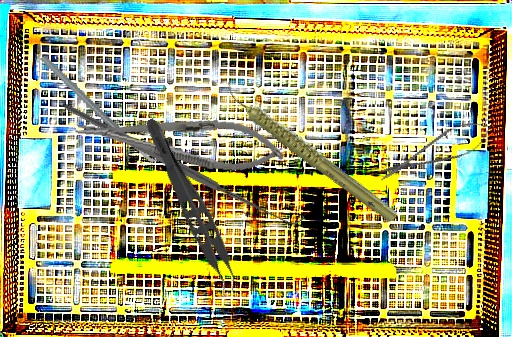Chopper: (39, 29, 163, 190)
Handpiece: (221, 50, 401, 253)
Hook Surgical: (63, 29, 305, 296)
Micro Scissor: (372, 112, 498, 191)
Needle Holder: (71, 102, 289, 178)
Tissue Forceps: (129, 115, 248, 299)
